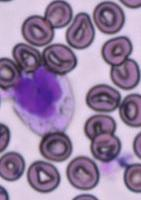N: (8, 62, 75, 134)
